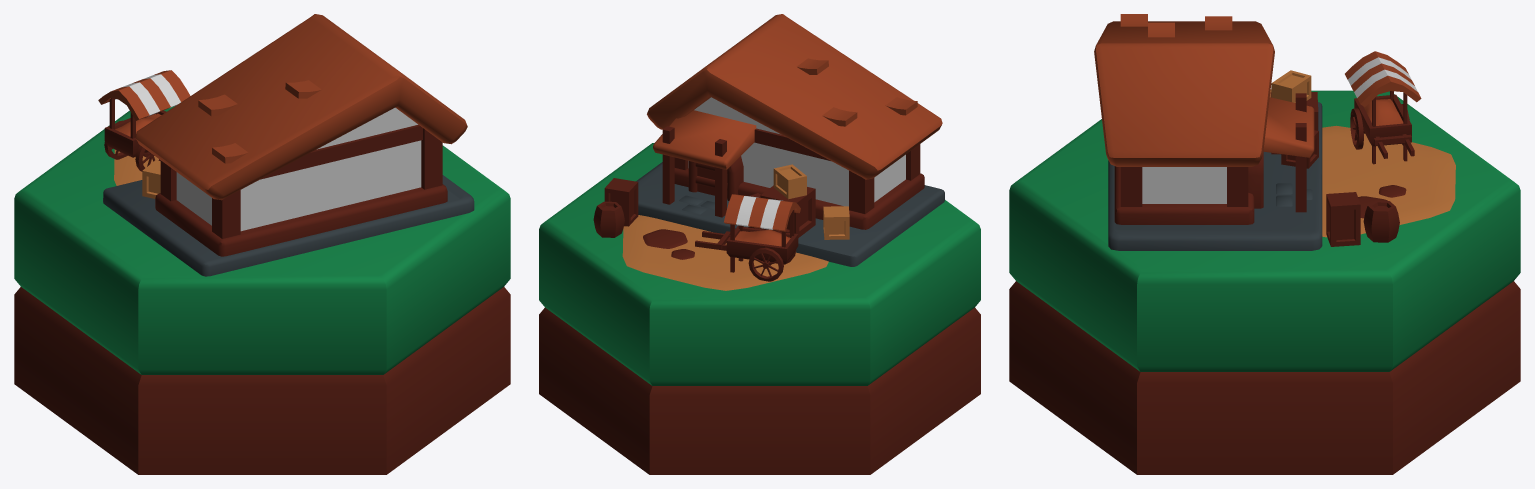
The model's file is kay_forestTileBuildersHut.glb.
3 renders of one model, left to right at view 1: azimuth 30°, elevation 25°; view 2: azimuth 150°, elevation 25°; view 3: azimuth 270°, elevation 25°, orthographic. The views are drawn at different scales.
Visible parts, largest first — view 1: mergedBlocks(Clone); view 2: mergedBlocks(Clone); view 3: mergedBlocks(Clone).
Part boxes in pixels (x1,y1,x2,y2): mergedBlocks(Clone): (14, 14, 510, 474); mergedBlocks(Clone): (539, 14, 980, 474); mergedBlocks(Clone): (1009, 14, 1520, 474).
Bounding box in the file's own units: 2 × 1.82 × 2.31.
